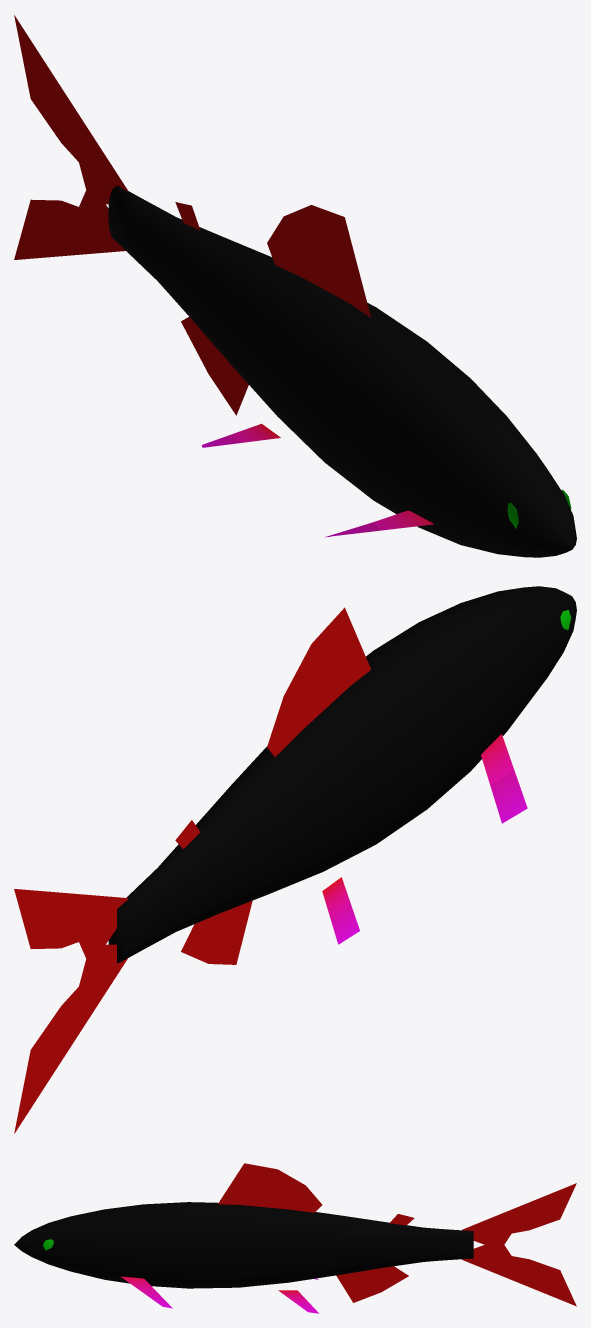
Rendered from hero_fish.glb.
3 renders of one model, top to bottom at view 1: azimuth 30°, elevation 25°; view 2: azimuth 150°, elevation 25°; view 3: azimuth 270°, elevation 25°, orthographic. The views are drawn at different scales.
Parts seen in each view (by area): view 1: HeroFish; view 2: HeroFish; view 3: HeroFish.
Boxes of the visible parts, x1,y1,x2,y2 form: HeroFish: (14,15,576,557); HeroFish: (14,586,576,1133); HeroFish: (14,1163,576,1313).
Bounding box in the file's own units: 0.211 × 0.283 × 1.01.
